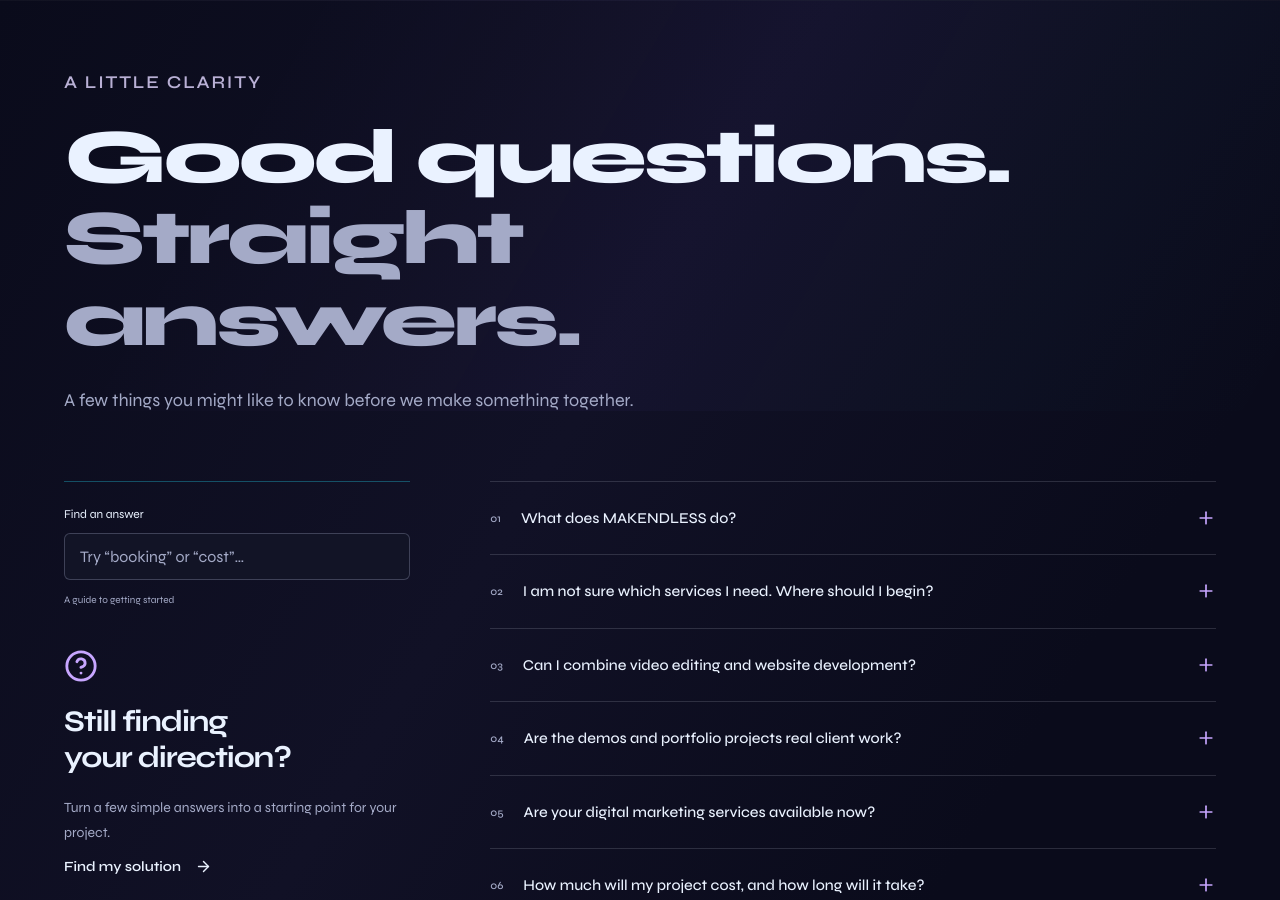
supporting page clarity › filters answers, opens an answer and recovers from an empty search
Type "cost" into the search field labelled "Find an answer". click: {"x": 237, "y": 556}
box: [64,533,410,580]
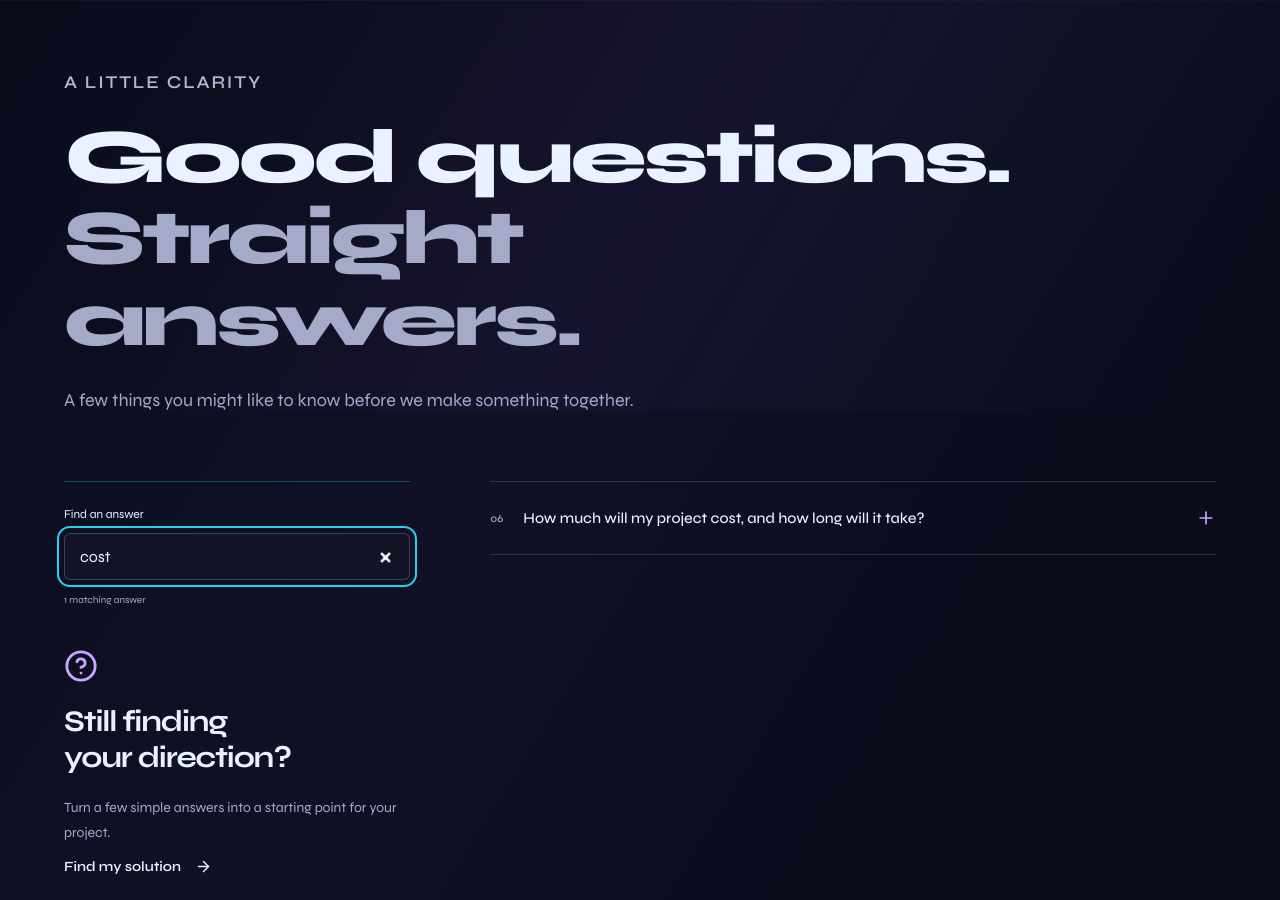
Result: the message reads "1 matching answer" at [64,594,146,606]
Click the text "How much will my project cost, and how long will it take?". click: {"x": 724, "y": 518}
box: [523,507,925,529]
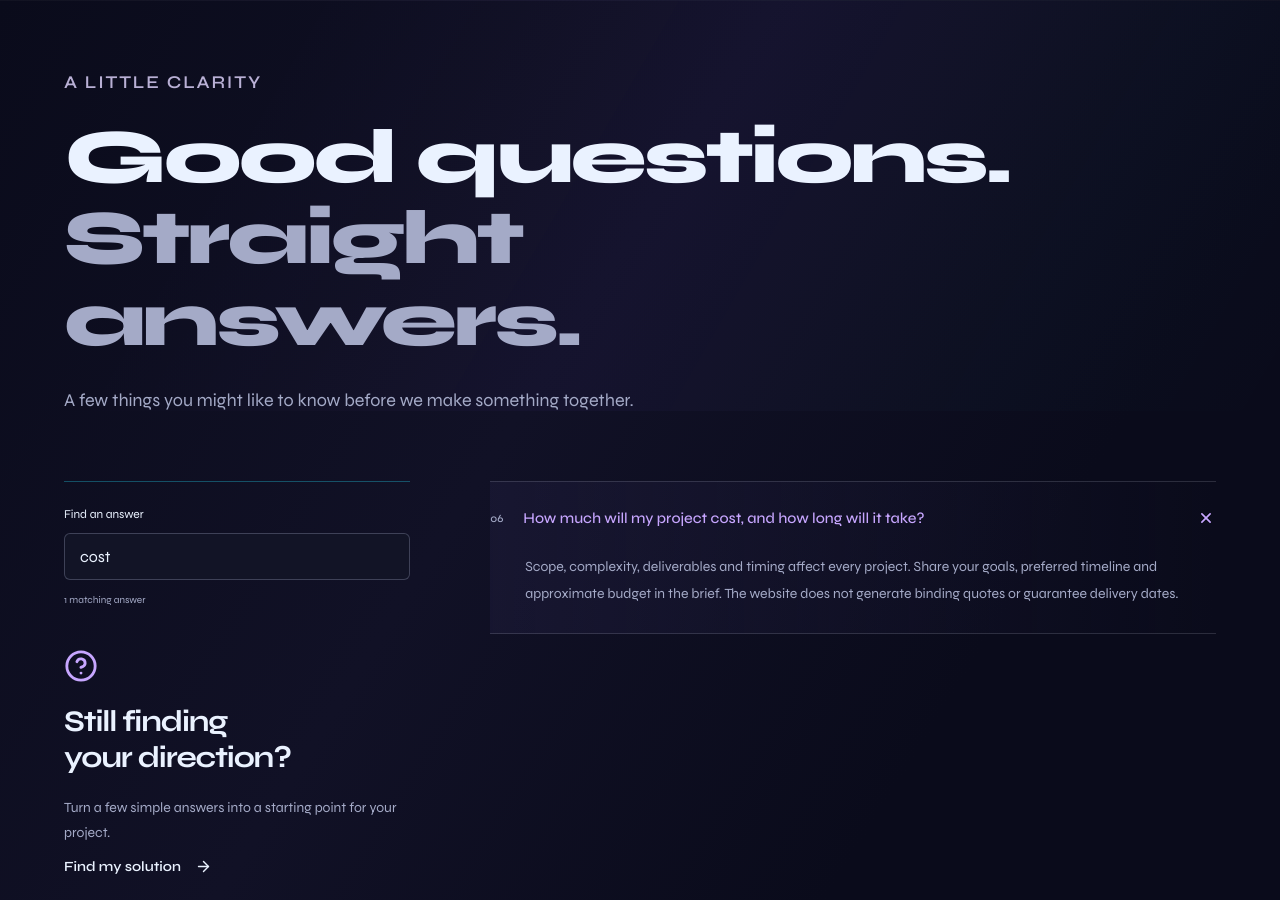
Result: the text "does not generate binding quotes" is shown at [525,558,1179,602]
Replace the text in the search field labelled "Find an answer" with "not-a-real-topic". click: {"x": 237, "y": 556}
box: [64,533,410,580]
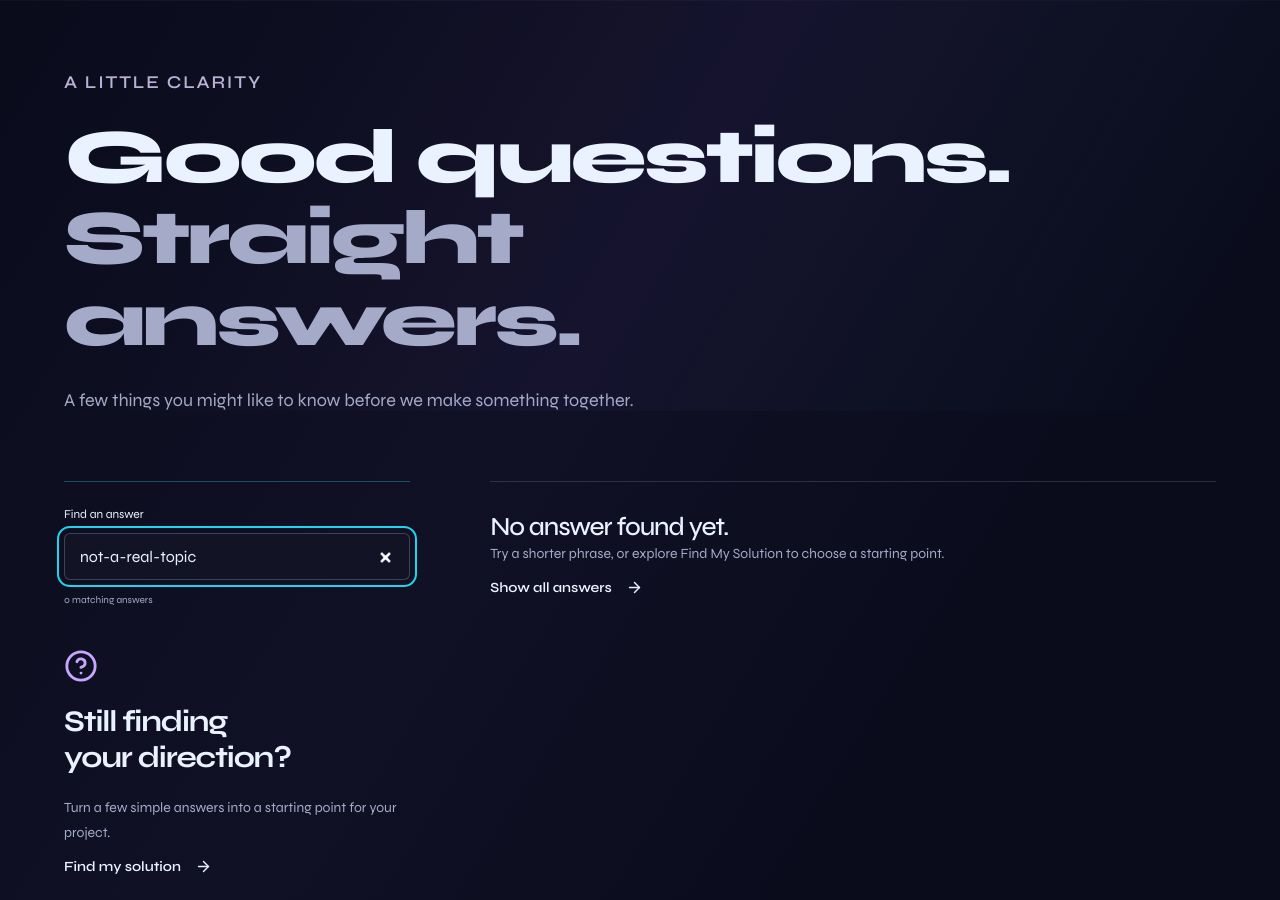
Result: the message reads "0 matching answers" at [64,594,153,606]
Click the button "Show all answers". click: {"x": 566, "y": 588}
box: [490,566,643,610]
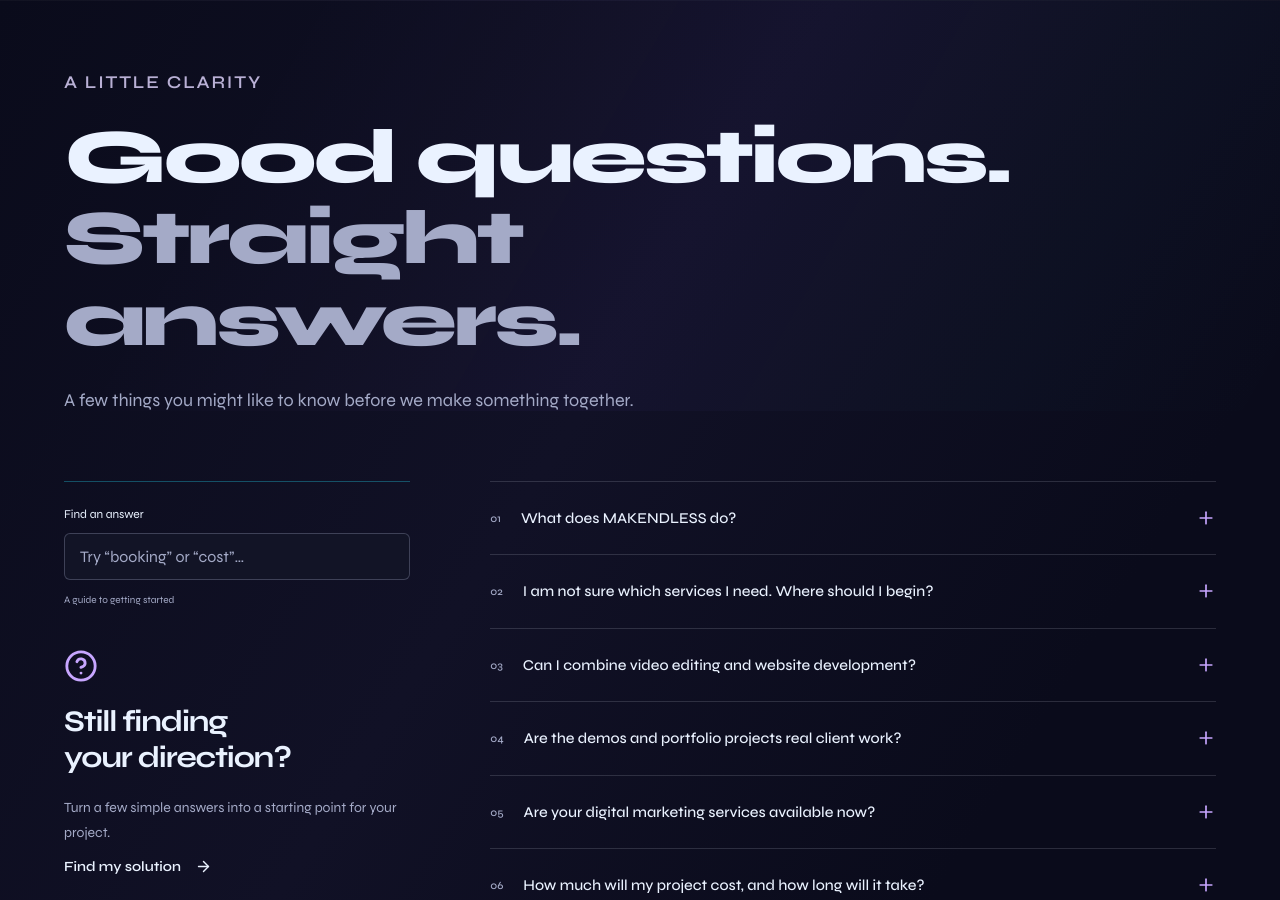
Result: the text "What does MAKENDLESS do?" is shown at [521,507,736,529]
